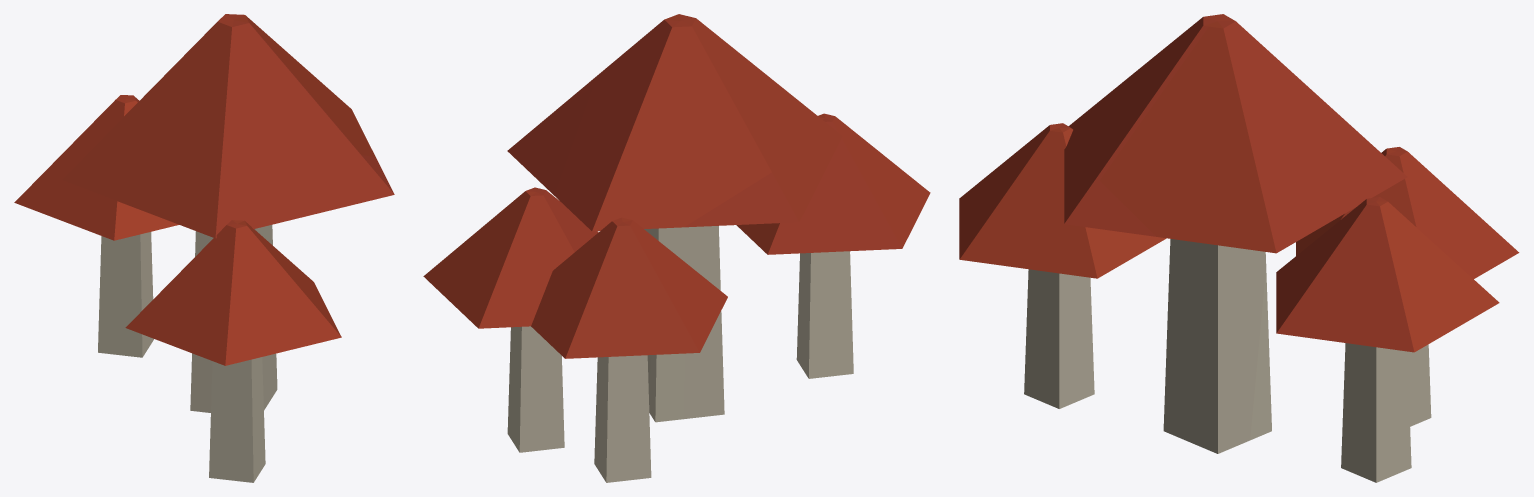
File: mushroom.glb
The picture shows the model from 3 angles, left to right: view 1: azimuth 30°, elevation 25°; view 2: azimuth 150°, elevation 25°; view 3: azimuth 270°, elevation 25°; orthographic projection. The views are drawn at different scales.
Visible parts, largest first — view 1: mushroom-b, mushroom-a; view 2: mushroom-b, mushroom-a; view 3: mushroom-b, mushroom-a.
Part boxes in pixels (left/top/right/bottom): mushroom-b: left=62, top=14, right=394, bottom=482; mushroom-a: left=14, top=21, right=393, bottom=412; mushroom-b: left=423, top=14, right=930, bottom=452; mushroom-a: left=507, top=18, right=842, bottom=482; mushroom-b: left=959, top=14, right=1499, bottom=482; mushroom-a: left=1064, top=26, right=1519, bottom=453.
Bounding box in the file's own units: 0.2354 × 0.26 × 0.3219.
